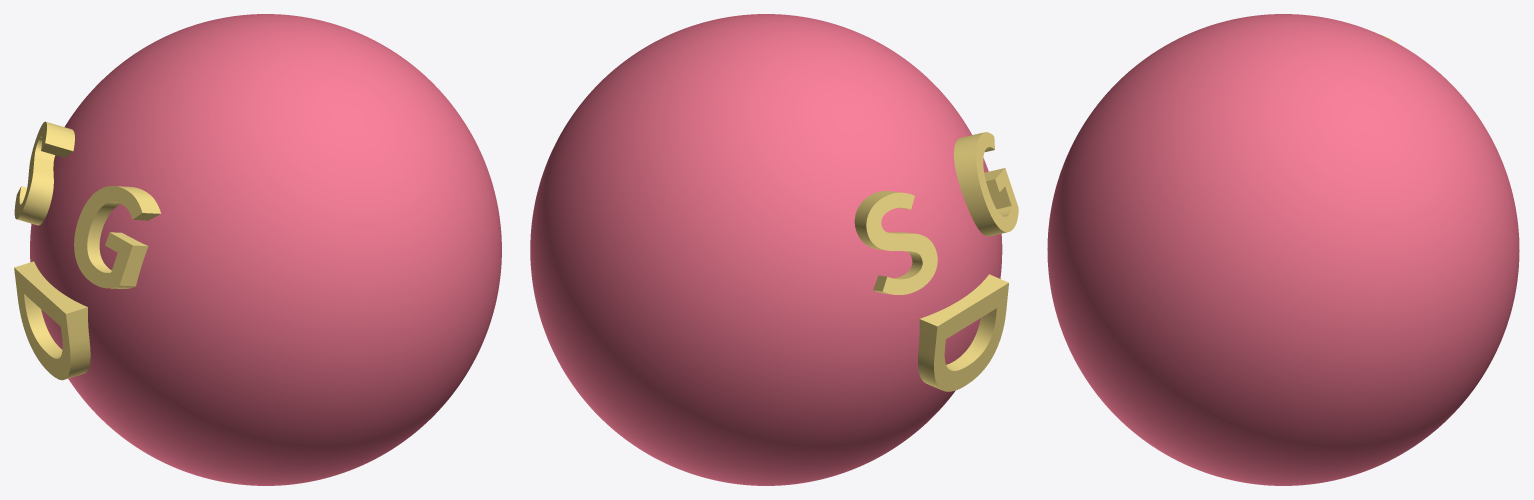
Rendered from sdg.gltf.
The picture shows the model from 3 angles, left to right: view 1: azimuth 30°, elevation 25°; view 2: azimuth 150°, elevation 25°; view 3: azimuth 270°, elevation 25°; orthographic projection.
Parts seen in each view (by area): view 1: Sphere 1, D, G, S; view 2: Sphere 1, D, S, G; view 3: Sphere 1.
Boxes of the visible parts, x1,y1,x2,y2 form: Sphere 1: (30, 14, 501, 485); D: (14, 261, 90, 380); G: (74, 186, 160, 288); S: (14, 121, 74, 225); Sphere 1: (530, 14, 1002, 485); D: (918, 274, 1008, 391); S: (854, 191, 937, 294); G: (953, 132, 1018, 236); Sphere 1: (1047, 14, 1519, 485).
Size of the model in its own units: 0.1625 by 0.156 by 0.156.
